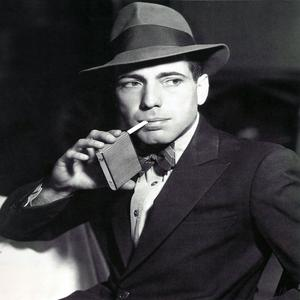cigarette: (122, 117, 152, 138)
